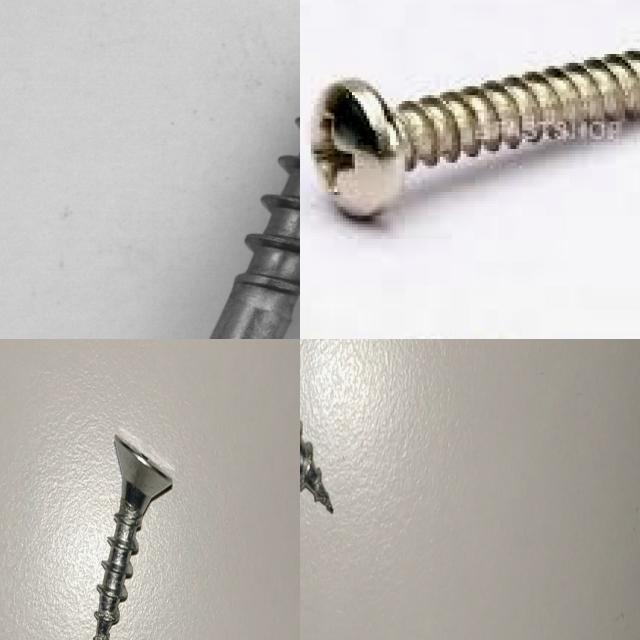Screw: (50, 0, 300, 339), (308, 48, 640, 221), (93, 434, 173, 640)
